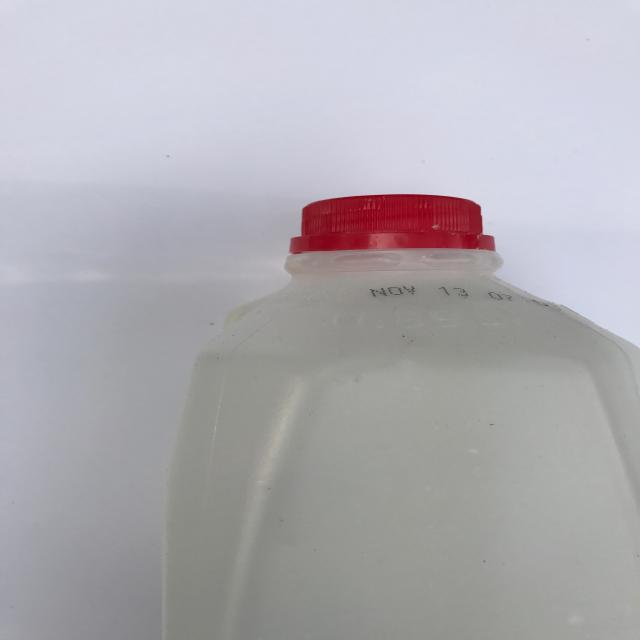plastic: (165, 191, 640, 640)
